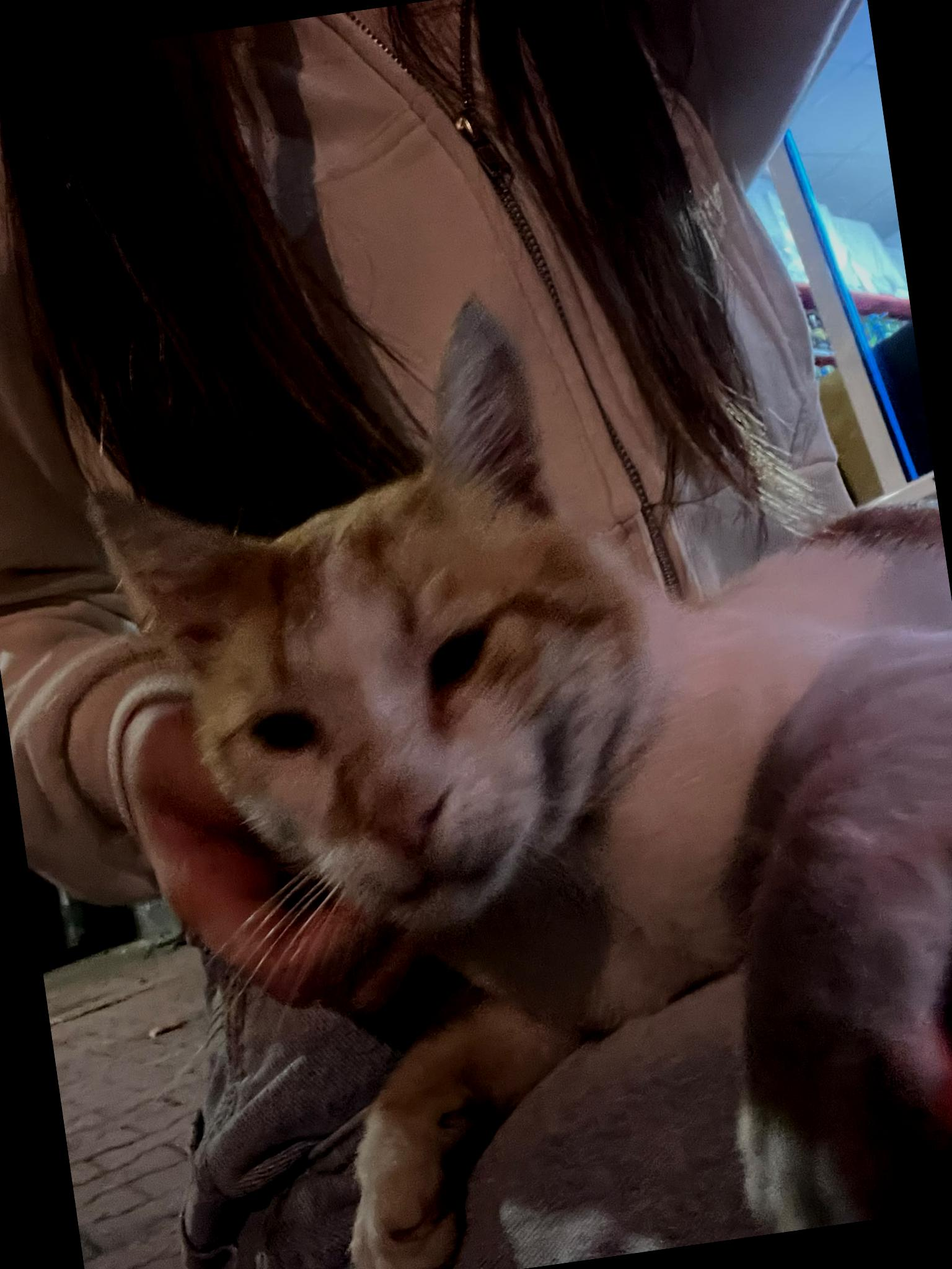macka: (63, 234, 952, 1269)
